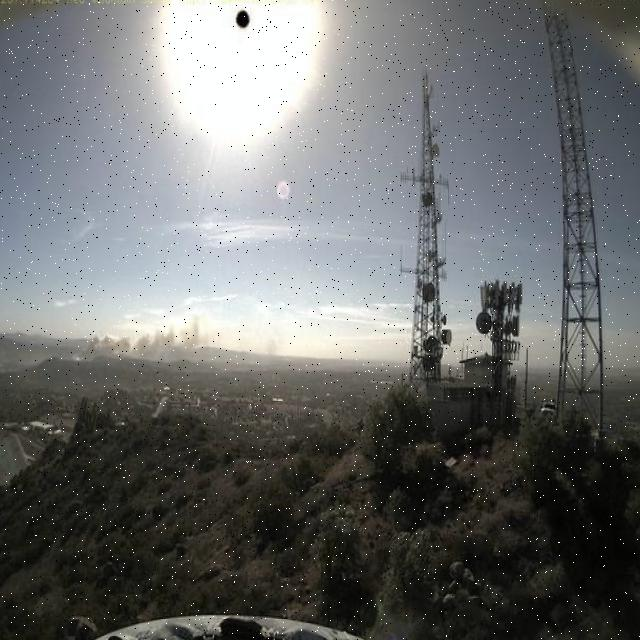smoke: (70, 304, 220, 372)
